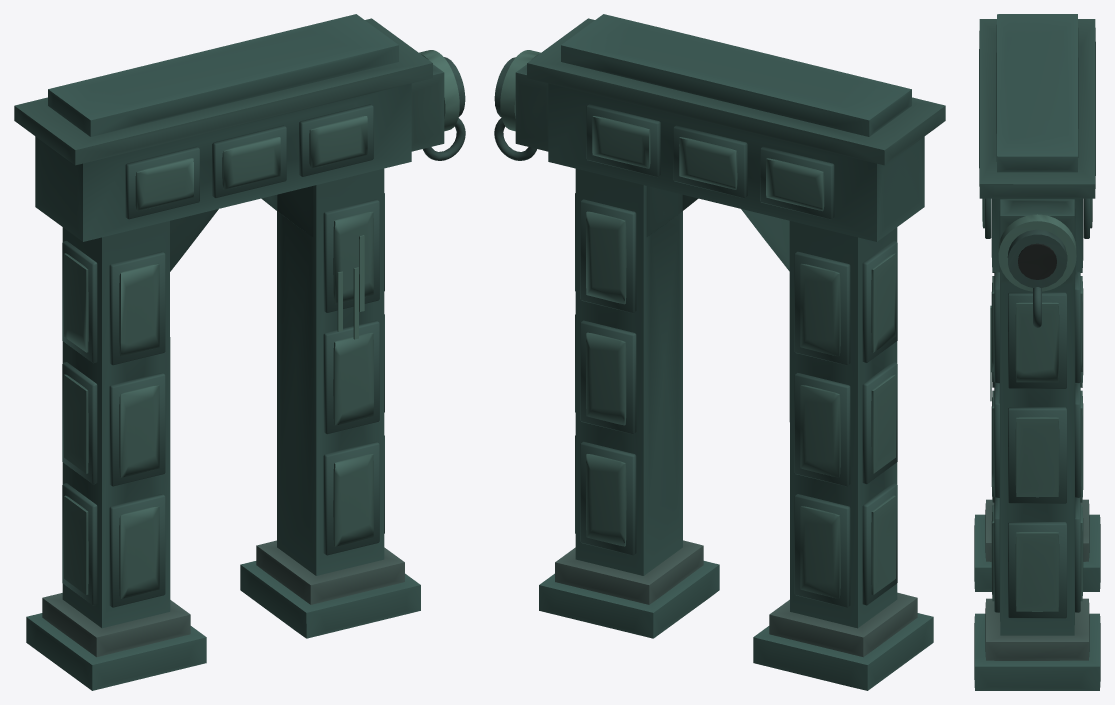
File: intake_gantry_a_lod1.glb
The picture shows the model from 3 angles, left to right: view 1: azimuth 30°, elevation 25°; view 2: azimuth 150°, elevation 25°; view 3: azimuth 270°, elevation 25°; orthographic projection. The views are drawn at different scales.
Parts seen in each view (by area): view 1: Surface.001; view 2: Surface.001; view 3: Surface.001.
Boxes of the visible parts, bbox=[...] form: Surface.001: bbox=[14, 14, 465, 690]; Surface.001: bbox=[494, 14, 945, 690]; Surface.001: bbox=[974, 14, 1100, 690].
Size of the model in its own units: 14.55 by 18.52 by 4.
